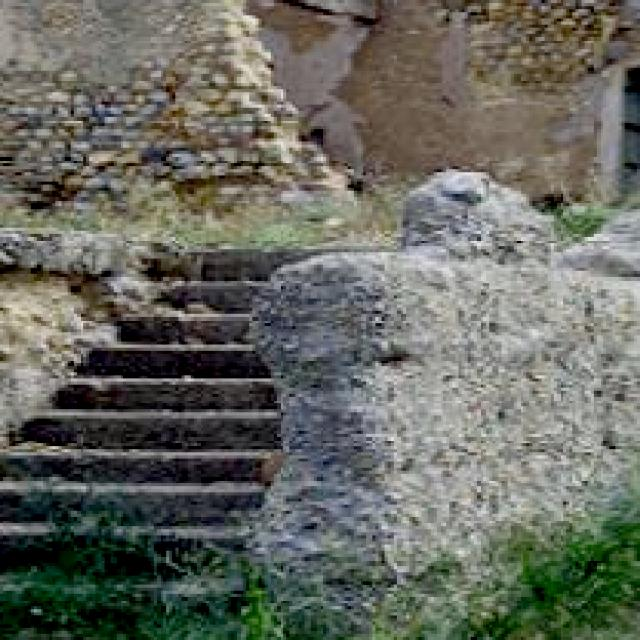upstair: (1, 247, 379, 545)
